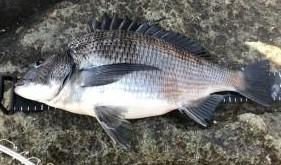fish: (14, 11, 274, 149)
